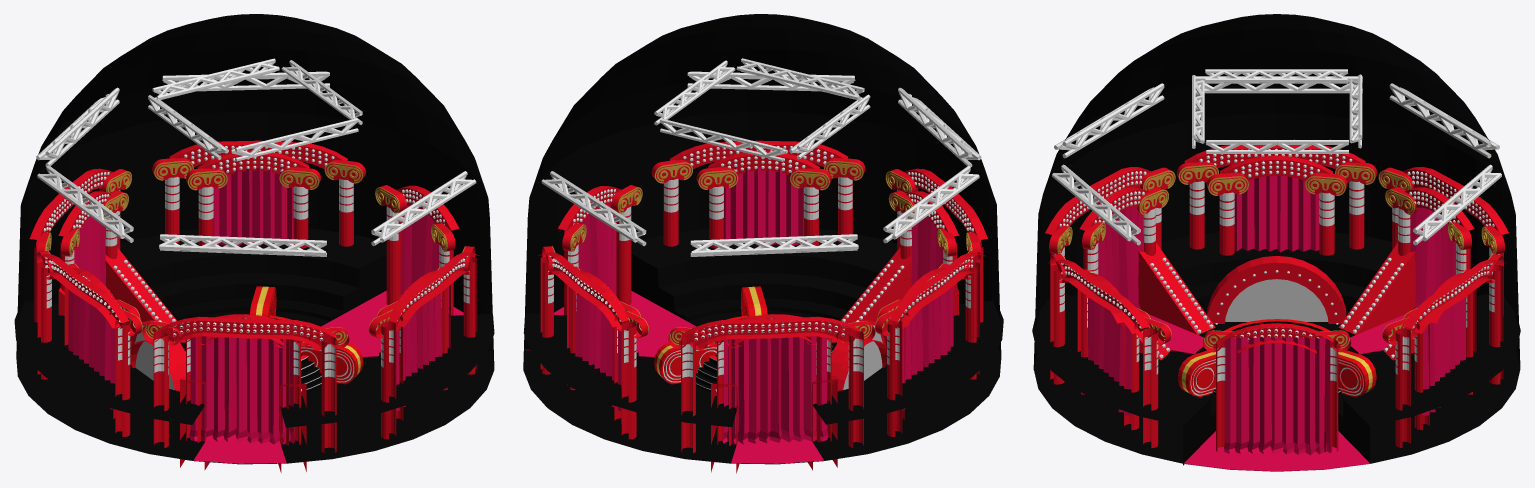
File: SceneEnvironment.fbx
3 renders of one model, left to right at view 1: azimuth 30°, elevation 25°; view 2: azimuth 150°, elevation 25°; view 3: azimuth 270°, elevation 25°, orthographic.
Visible parts, largest first — view 1: Sphere, Cylinder, Floor, Plane, Cylinder.004, Plane.003, Cylinder.007, Icosphere.007, Icosphere.005, Column.008, Column.011, Column.004 (+20 smaller); view 2: Sphere, Cylinder, Floor, Plane, Cylinder.004, Plane.003, Cylinder.007, Icosphere.007, Icosphere.005, Column.008, Plane.002, Column.011 (+19 smaller); view 3: Sphere, Cylinder, Floor, Plane.001, Cylinder.004, Icosphere, Plane.002, Cylinder.007, Plane, Plane.003, Column.004, Icosphere.005 (+19 smaller).
Part boxes in pixels (x1=…): Sphere: x1=16, y1=14, x2=494, y2=365; Cylinder: x1=14, y1=228, x2=494, y2=427; Floor: x1=16, y1=290, x2=494, y2=464; Plane: x1=65, y1=216, x2=295, y2=444; Cylinder.004: x1=36, y1=71, x2=476, y2=256; Plane.003: x1=213, y1=167, x2=448, y2=410; Cylinder.007: x1=148, y1=58, x2=362, y2=161; Icosphere.007: x1=29, y1=168, x2=335, y2=348; Icosphere.005: x1=169, y1=140, x2=479, y2=327; Column.008: x1=152, y1=158, x2=402, y2=439; Column.011: x1=37, y1=251, x2=142, y2=436; Column.004: x1=324, y1=160, x2=477, y2=374; Sphere: x1=523, y1=14, x2=1001, y2=366; Cylinder: x1=523, y1=228, x2=1003, y2=427; Floor: x1=523, y1=291, x2=1001, y2=464; Plane: x1=722, y1=216, x2=943, y2=444; Cylinder.004: x1=541, y1=71, x2=981, y2=256; Plane.003: x1=569, y1=167, x2=803, y2=410; Cylinder.007: x1=654, y1=58, x2=870, y2=161; Icosphere.007: x1=681, y1=168, x2=987, y2=348; Icosphere.005: x1=538, y1=140, x2=847, y2=327; Column.008: x1=614, y1=158, x2=865, y2=439; Plane.002: x1=902, y1=286, x2=953, y2=409; Column.011: x1=875, y1=251, x2=980, y2=436; Sphere: x1=1033, y1=14, x2=1520, y2=367; Cylinder: x1=1032, y1=232, x2=1520, y2=465; Floor: x1=1033, y1=314, x2=1520, y2=471; Plane.001: x1=1224, y1=336, x2=1331, y2=455; Cylinder.004: x1=1052, y1=76, x2=1501, y2=245; Icosphere: x1=1138, y1=242, x2=1415, y2=334; Plane.002: x1=1222, y1=171, x2=1319, y2=252; Cylinder.007: x1=1192, y1=69, x2=1362, y2=153; Plane: x1=1098, y1=190, x2=1455, y2=309; Plane.003: x1=1088, y1=298, x2=1465, y2=415; Column.004: x1=1134, y1=317, x2=1419, y2=447; Icosphere.005: x1=1048, y1=259, x2=1505, y2=333.
Size of the model in its own units: 2431 by 1975 by 2429.
